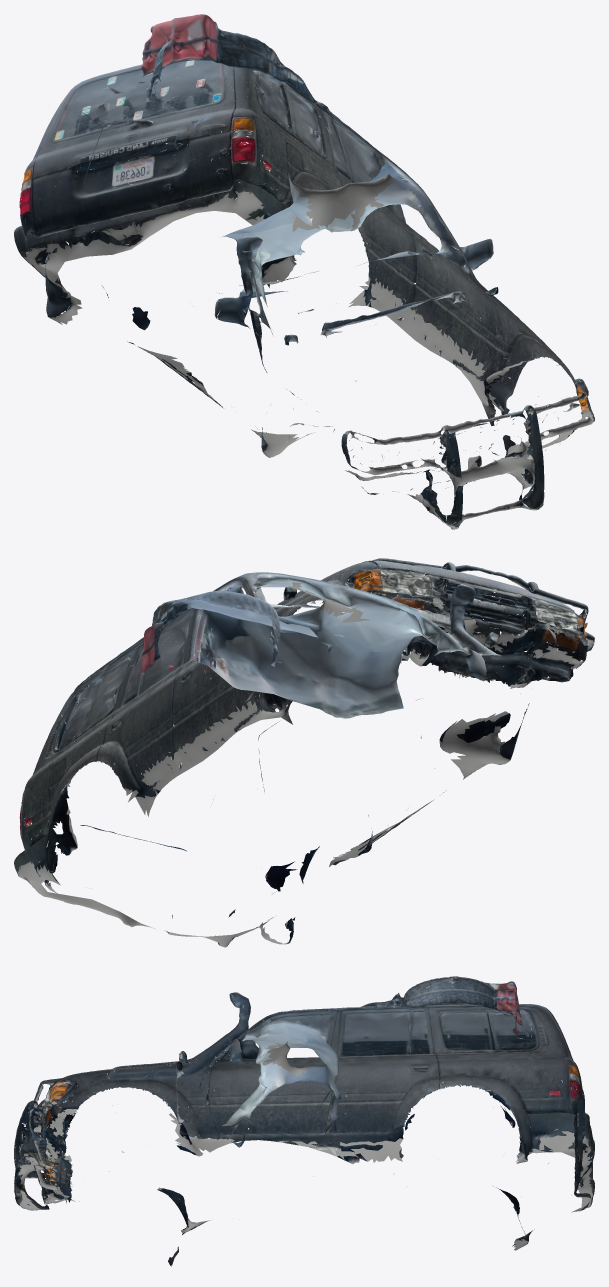
The model's file is cruiser.glb.
3 renders of one model, top to bottom at view 1: azimuth 30°, elevation 25°; view 2: azimuth 150°, elevation 25°; view 3: azimuth 270°, elevation 25°, orthographic. The views are drawn at different scales.
Parts seen in each view (by area): view 1: scan_1, scan_0, scan_2; view 2: scan_1, scan_0, scan_2; view 3: scan_0, scan_1, scan_2.
Boxes of the visible parts, x1,y1,x2,y2 form: scan_1: [14, 14, 594, 529]; scan_0: [14, 36, 594, 513]; scan_2: [17, 28, 594, 528]; scan_1: [14, 558, 594, 947]; scan_0: [19, 558, 581, 933]; scan_2: [15, 562, 594, 945]; scan_0: [14, 980, 594, 1246]; scan_1: [14, 976, 594, 1250]; scan_2: [15, 978, 592, 1266].
Bounding box in the file's own units: 2.05 × 2.23 × 4.92.
Materials: 4 (4 with a texture image).
